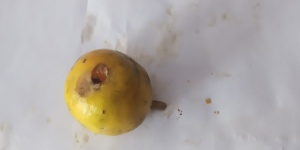BAD: (64, 49, 152, 134)
